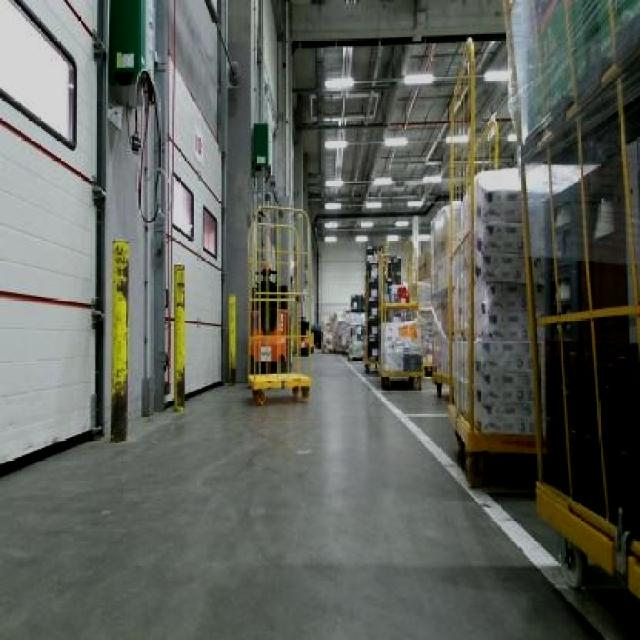floor: (0, 354, 592, 637)
pallets: (429, 0, 637, 595)
